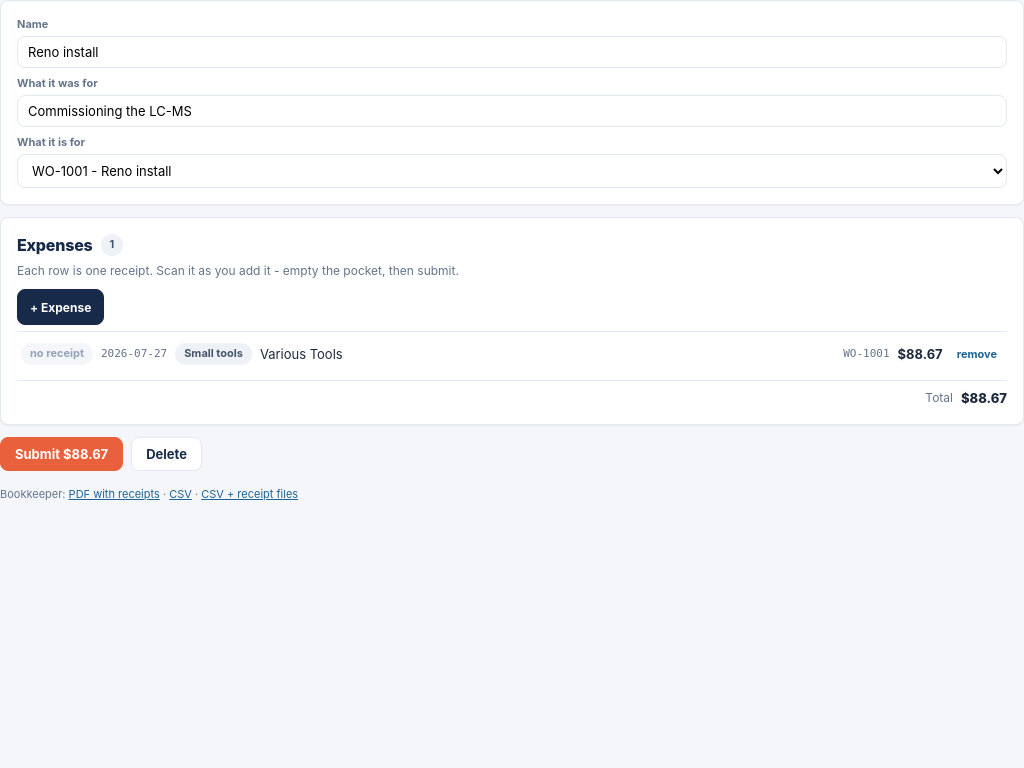
Scenario: the row opens › opens on a click, holding what the row says
Click the text "Various Tools". click: (301, 354)
box: [260, 346, 343, 362]
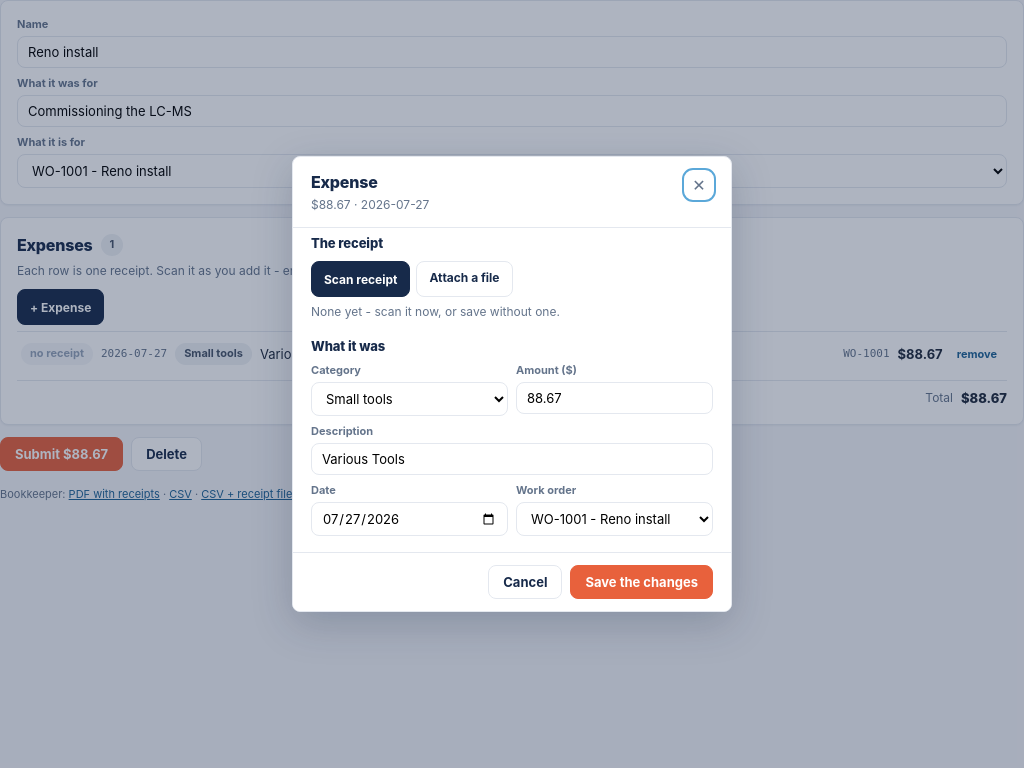
Expected: the field named "Amount" holds "88.67", [516, 382, 713, 414]
Expected: the field named "Description" holds "Various Tools", [311, 443, 713, 475]
Expected: the date field named "Date incurred" holds "2026-07-27", [311, 502, 508, 536]
